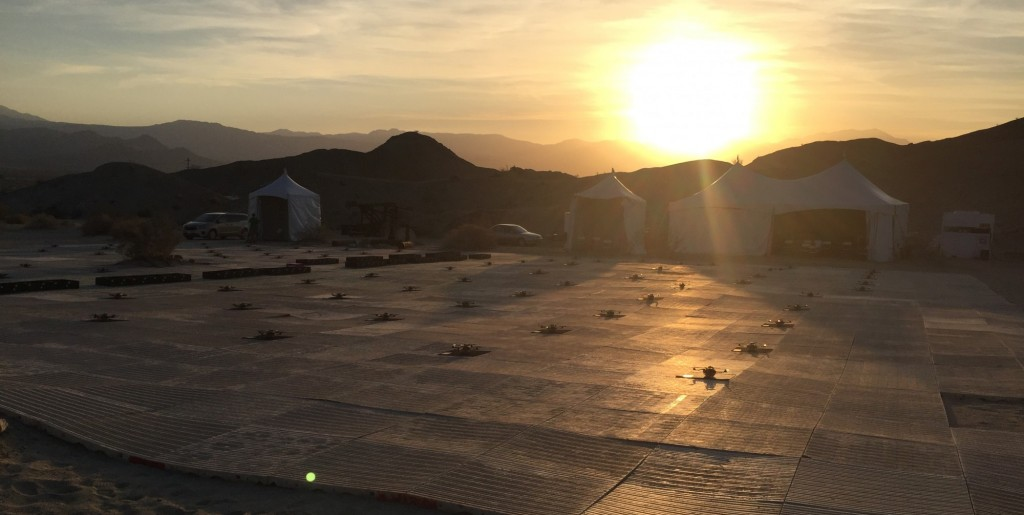drone: (676, 366, 736, 393), (437, 343, 494, 361), (240, 329, 300, 344), (731, 342, 777, 360), (365, 312, 408, 326), (530, 324, 574, 337), (81, 313, 130, 324), (762, 319, 798, 333), (224, 302, 268, 313), (593, 310, 629, 322), (322, 292, 361, 303), (637, 295, 665, 310), (449, 300, 485, 311), (782, 304, 814, 314), (100, 293, 139, 301), (213, 285, 246, 294), (622, 275, 651, 285), (671, 284, 699, 294), (508, 291, 539, 300), (396, 286, 425, 295), (292, 279, 324, 287), (554, 280, 582, 289), (798, 291, 825, 300), (359, 273, 386, 281), (650, 266, 673, 275), (529, 268, 551, 277), (95, 267, 118, 275), (851, 287, 877, 294), (455, 277, 475, 285), (856, 281, 878, 288), (735, 280, 755, 287), (862, 275, 880, 282), (480, 262, 500, 268), (866, 270, 883, 277), (92, 251, 111, 257), (443, 266, 459, 273), (563, 262, 581, 268), (751, 274, 769, 280), (19, 264, 36, 270), (319, 254, 334, 260), (36, 249, 51, 255), (303, 249, 318, 255), (272, 256, 289, 261), (1, 274, 15, 280), (101, 246, 114, 252), (359, 252, 373, 257), (341, 248, 354, 253), (546, 259, 559, 264), (708, 263, 721, 268), (252, 249, 268, 253), (260, 253, 276, 257), (518, 260, 530, 265), (246, 245, 260, 249), (221, 256, 232, 261), (393, 250, 406, 254), (291, 247, 304, 251), (203, 246, 213, 251), (768, 268, 778, 273), (593, 260, 605, 264), (51, 244, 60, 249), (214, 254, 225, 258), (201, 242, 209, 247), (207, 250, 218, 253), (778, 268, 786, 272), (679, 262, 687, 266)
person: (248, 213, 263, 244)
